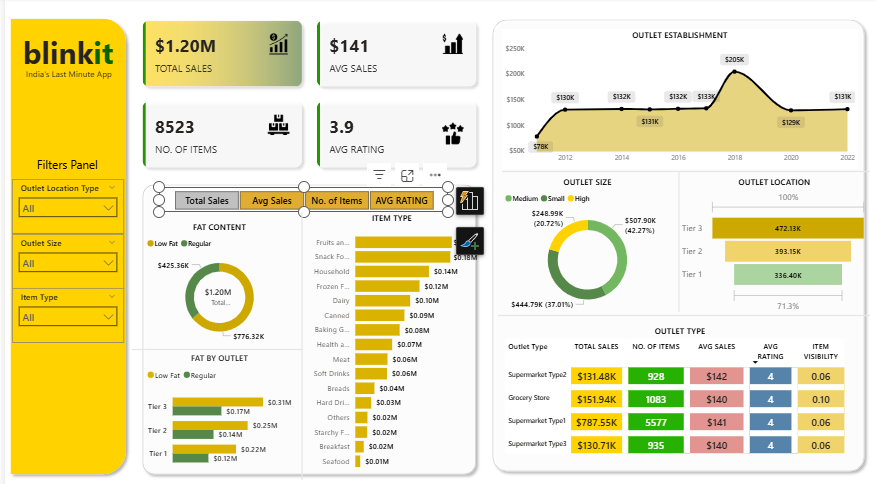

What the dashboard file says about the page in this screenshot:
{"tool":"powerbi","page":{"name":"HOME","canvas":[1400,800],"ordinal":0},"visuals":[{"type":"shape","box":[0,25,203.3,750],"z":0},{"type":"textbox","box":[0,51.7,203.3,116.7],"z":1000},{"type":"textbox","box":[28.3,110,158.3,46.7],"z":2000},{"type":"cardVisual","fields":{"Data":["BlinkIT Grocery Data.Total Sales","BlinkIT Grocery Data.Avg Sales","BlinkIT Grocery Data.No. of Items","BlinkIT Grocery Data.Avg Rating"]},"box":[203.3,21.7,570,270],"z":3000},{"type":"shape","box":[211.7,291.7,553.3,483.3],"z":4000},{"type":"donutChart","title":"FAT CONTENT","fields":{"Y":["BlinkIT Grocery Data.Total Sales"],"Category":["BlinkIT Grocery Data.Item Fat Content"]},"box":[223.3,359.8,242.6,200.8],"z":5000},{"type":"slicer","fields":{"Values":["Metrics.Metrics"]},"box":[246.7,305,465,40],"z":6000},{"type":"cardVisual","fields":{"Data":["BlinkIT Grocery Data.Total Sales"]},"box":[301.2,448.8,81.2,57.5],"z":7000},{"type":"clusteredBarChart","title":"FAT BY OUTLET","fields":{"Y":["BlinkIT Grocery Data.Total Sales"],"Category":["BlinkIT Grocery Data.Outlet Location Type"],"Series":["BlinkIT Grocery Data.Item Fat Content"]},"box":[223.3,570.3,242.6,199.2],"z":8000},{"type":"shape","box":[204,551,274.7,30.5],"z":9000},{"type":"shape","box":[465.9,345.4,22.5,430.5],"z":10000},{"type":"barChart","title":"ITEM TYPE","fields":{"Y":["BlinkIT Grocery Data.Total Sales"],"Category":["BlinkIT Grocery Data.Item Type"]},"box":[479.1,346.1,285.5,424.3],"z":11000},{"type":"shape","box":[774.3,27.3,615.3,743.8],"z":12000},{"type":"lineChart","title":"OUTLET ESTABLISHMENT","fields":{"Category":["BlinkIT Grocery Data.Outlet Establishment Year"],"Y":["BlinkIT Grocery Data.Total Sales"]},"box":[798.4,51.4,571.9,224.9],"z":13000},{"type":"shape","box":[798.4,269.9,591.2,20.9],"z":14000},{"type":"donutChart","title":"OUTLET SIZE","fields":{"Y":["BlinkIT Grocery Data.Total Sales"],"Category":["BlinkIT Grocery Data.Outlet Size"]},"box":[798.4,287.6,274.7,224.9],"z":15000},{"type":"shape","box":[1071.5,281.1,22.5,224.9],"z":16000},{"type":"funnel","title":"OUTLET LOCATION","fields":{"Category":["BlinkIT Grocery Data.Outlet Location Type"],"Y":["Sum(BlinkIT Grocery Data.Sales)"]},"box":[1082.7,287.6,306.8,224.9],"z":17000},{"type":"shape","box":[792,496.4,597.6,30.5],"z":18000},{"type":"pivotTable","title":"OUTLET TYPE","fields":{"Rows":["BlinkIT Grocery Data.Outlet Type"],"Values":["BlinkIT Grocery Data.Total Sales","BlinkIT Grocery Data.No. of Items","BlinkIT Grocery Data.Avg Sales","BlinkIT Grocery Data.AVG  RATING","Avg(BlinkIT Grocery Data.Item Visibility)"]},"box":[798.4,526.9,571.9,220.1],"z":19000},{"type":"slicer","fields":{"Values":["BlinkIT Grocery Data.Outlet Location Type"]},"box":[11.2,292.4,179.9,88.4],"z":20000},{"type":"slicer","fields":{"Values":["BlinkIT Grocery Data.Outlet Size"]},"box":[11.2,380.7,179.9,88.4],"z":21000},{"type":"slicer","fields":{"Values":["BlinkIT Grocery Data.Item Type"]},"box":[11.2,467.5,179.9,88.4],"z":22000},{"type":"textbox","box":[21.5,250.3,158.4,39.1],"z":23000}]}

Visuals, with their boxes on the page's 1400x800 design canvas (x1, y1, x2, y2). These are canvas units, not pixel positions in the 876x484 screenshot, which may show the page scaled, cropped or inside an application window:
shape: (left=0, top=25, right=203, bottom=775)
textbox: (left=0, top=52, right=203, bottom=168)
textbox: (left=28, top=110, right=187, bottom=157)
cardVisual - BlinkIT Grocery Data.Total Sales x BlinkIT Grocery Data.Avg Sales: (left=203, top=22, right=773, bottom=292)
shape: (left=212, top=292, right=765, bottom=775)
"FAT CONTENT" donutChart: (left=223, top=360, right=466, bottom=561)
slicer - Metrics.Metrics: (left=247, top=305, right=712, bottom=345)
cardVisual - BlinkIT Grocery Data.Total Sales: (left=301, top=449, right=382, bottom=506)
"FAT BY OUTLET" clusteredBarChart: (left=223, top=570, right=466, bottom=770)
shape: (left=204, top=551, right=479, bottom=582)
shape: (left=466, top=345, right=488, bottom=776)
"ITEM TYPE" barChart: (left=479, top=346, right=765, bottom=770)
shape: (left=774, top=27, right=1390, bottom=771)
"OUTLET ESTABLISHMENT" lineChart: (left=798, top=51, right=1370, bottom=276)
shape: (left=798, top=270, right=1390, bottom=291)
"OUTLET SIZE" donutChart: (left=798, top=288, right=1073, bottom=512)
shape: (left=1072, top=281, right=1094, bottom=506)
"OUTLET LOCATION" funnel: (left=1083, top=288, right=1390, bottom=512)
shape: (left=792, top=496, right=1390, bottom=527)
"OUTLET TYPE" pivotTable: (left=798, top=527, right=1370, bottom=747)
slicer - BlinkIT Grocery Data.Outlet Location Type: (left=11, top=292, right=191, bottom=381)
slicer - BlinkIT Grocery Data.Outlet Size: (left=11, top=381, right=191, bottom=469)
slicer - BlinkIT Grocery Data.Item Type: (left=11, top=468, right=191, bottom=556)
textbox: (left=22, top=250, right=180, bottom=289)
